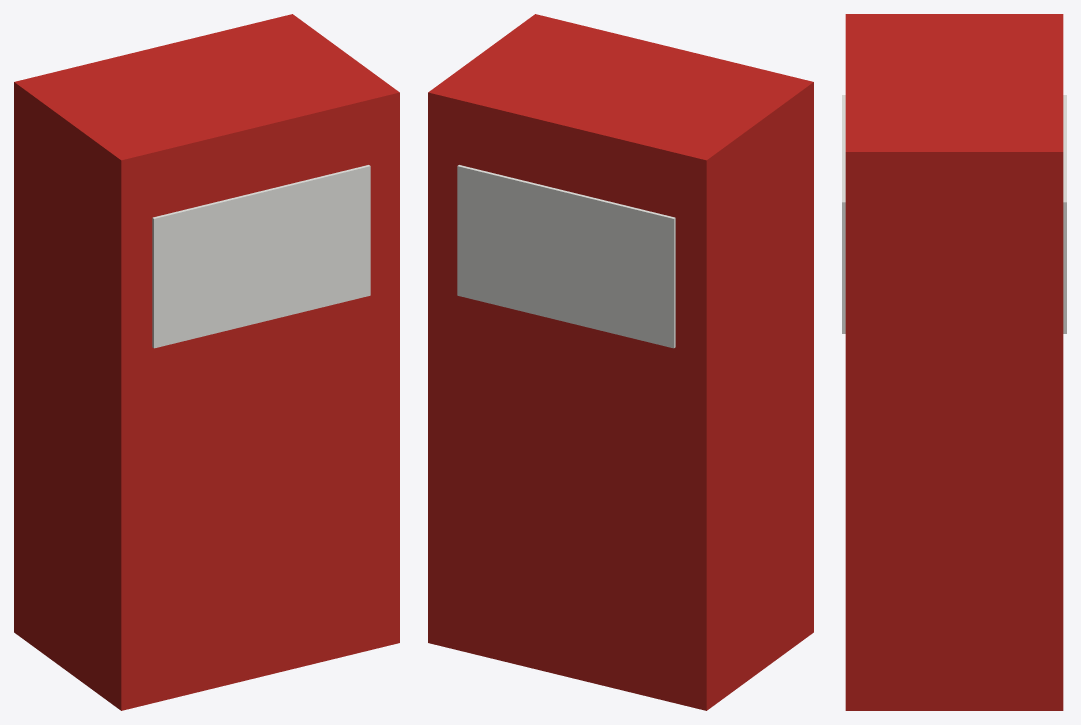
File: prop_gas_pump.glb
3 views of the same model, side by side, from view 1: azimuth 30°, elevation 25°; view 2: azimuth 150°, elevation 25°; view 3: azimuth 270°, elevation 25° (orthographic).
Parts seen in each view (by area): view 1: prop_gas_pump__mesh; view 2: prop_gas_pump__mesh; view 3: prop_gas_pump__mesh.
Boxes of the visible parts, <box> form: prop_gas_pump__mesh: <box>14,14,399,710</box>; prop_gas_pump__mesh: <box>428,14,813,710</box>; prop_gas_pump__mesh: <box>842,14,1066,710</box>.
Bounding box in the file's own units: 0.9 × 1.7 × 0.62.
